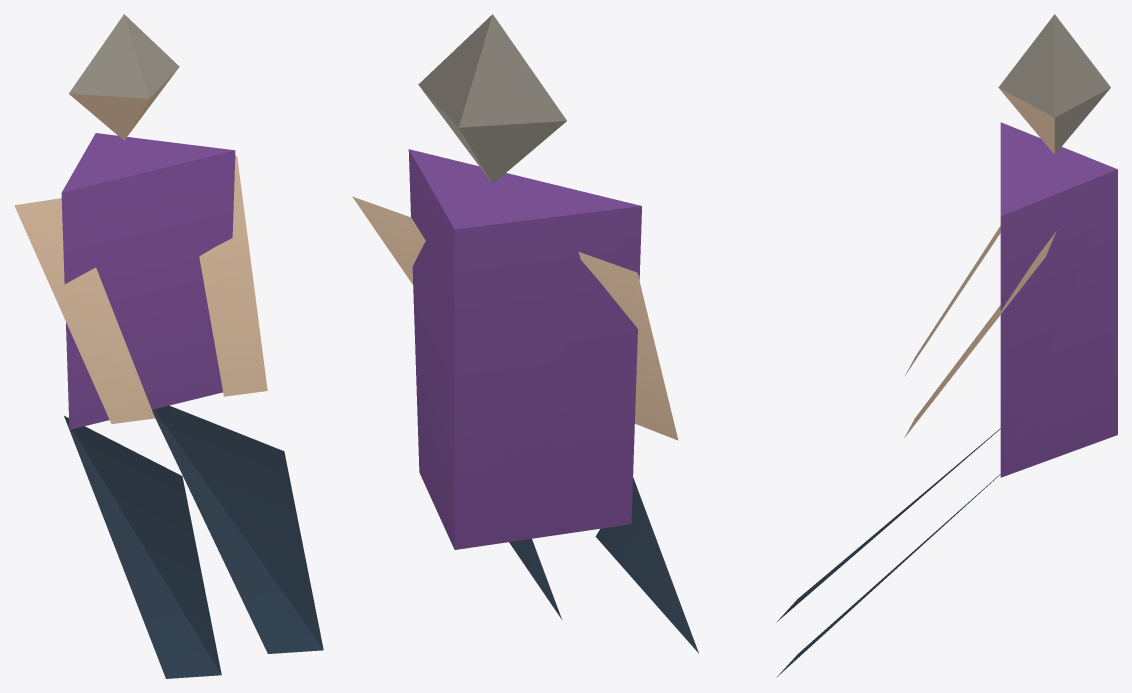
The model's file is fan-08.glb.
3 renders of one model, left to right at view 1: azimuth 30°, elevation 25°; view 2: azimuth 150°, elevation 25°; view 3: azimuth 270°, elevation 25°, orthographic. The views are drawn at different scales.
Parts seen in each view (by area): view 1: fan-08; view 2: fan-08; view 3: fan-08.
Part boxes in pixels (<box>): fan-08: <box>14,14,323,678</box>; fan-08: <box>352,14,698,653</box>; fan-08: <box>776,14,1117,677</box>.
Size of the model in its own units: 0.62 by 1.53 by 0.76.
